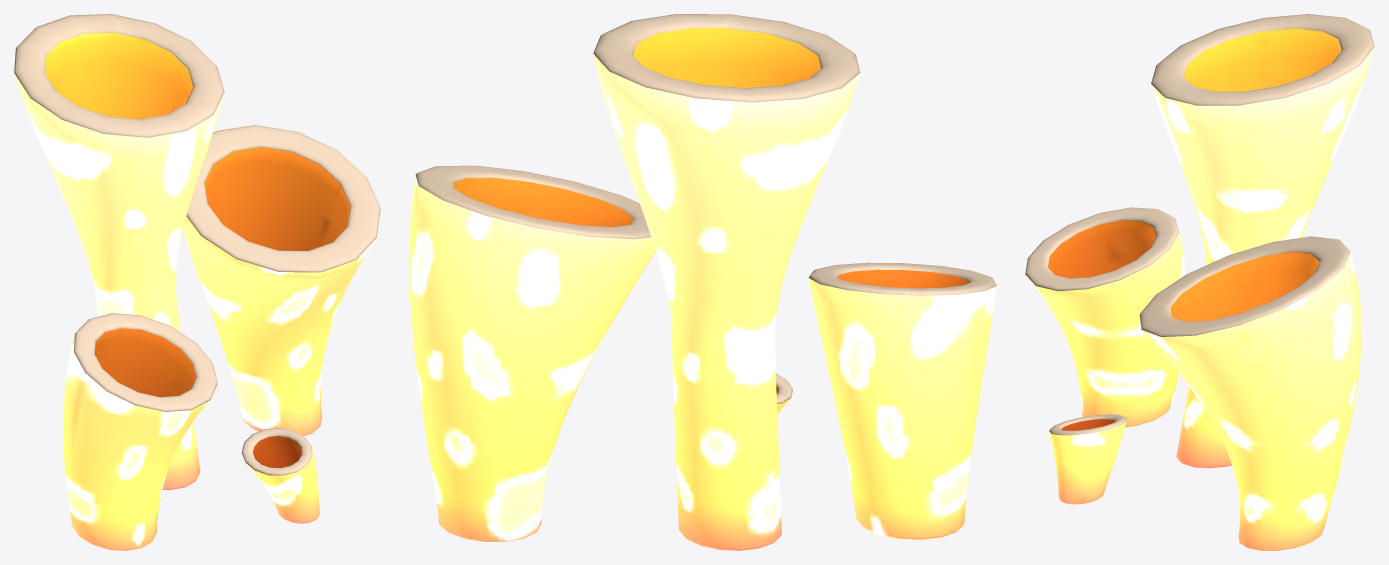
File: teen.fbx
3 views of the same model, side by side, from view 1: azimuth 30°, elevation 25°; view 2: azimuth 150°, elevation 25°; view 3: azimuth 270°, elevation 25° (orthographic). The views are drawn at different scales.
Visible parts, largest first — view 1: teen; view 2: teen; view 3: teen.
Boxes of the visible parts, box(x1,y1,x2,y2) form: teen: box(14, 14, 380, 550); teen: box(409, 14, 996, 550); teen: box(1025, 14, 1374, 550).
Size of the model in its own units: 17141 by 19256 by 14720.
